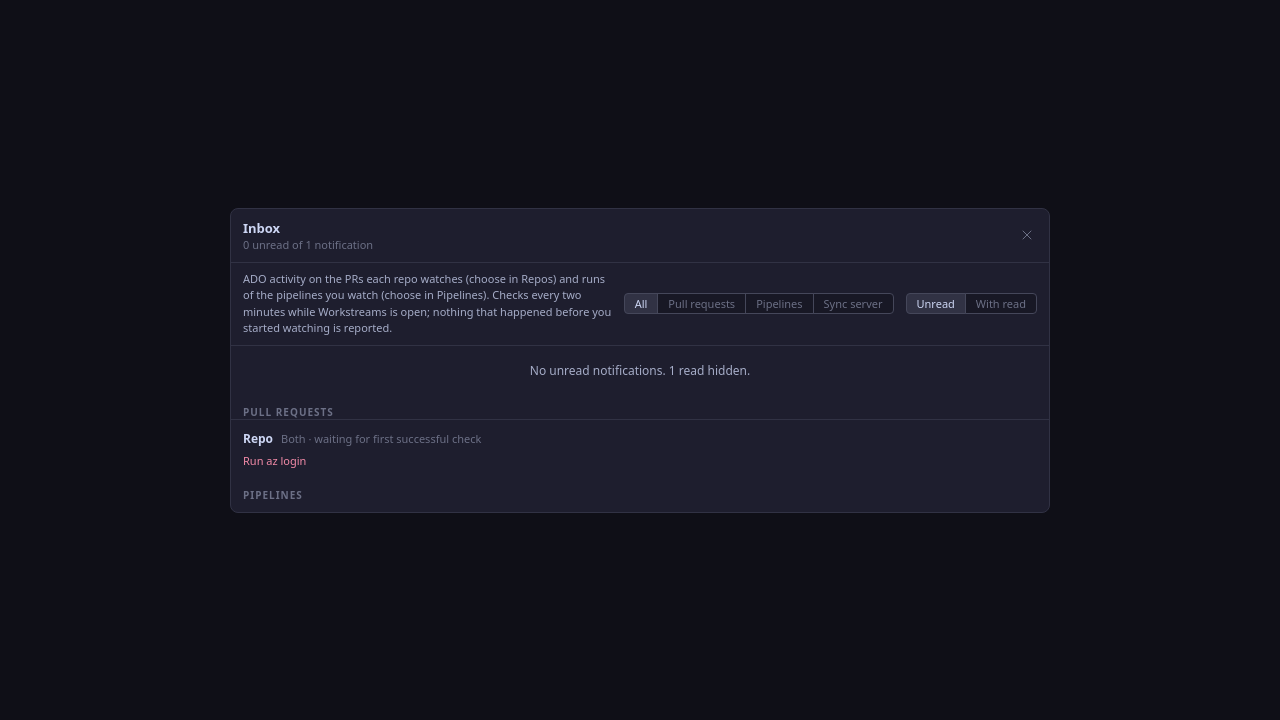
Scenario: Inbox, pull requests › can mark unread and reports failed writes and browser opens
Click the button "With read" at point(1001, 304), box [965,293,1037,314]
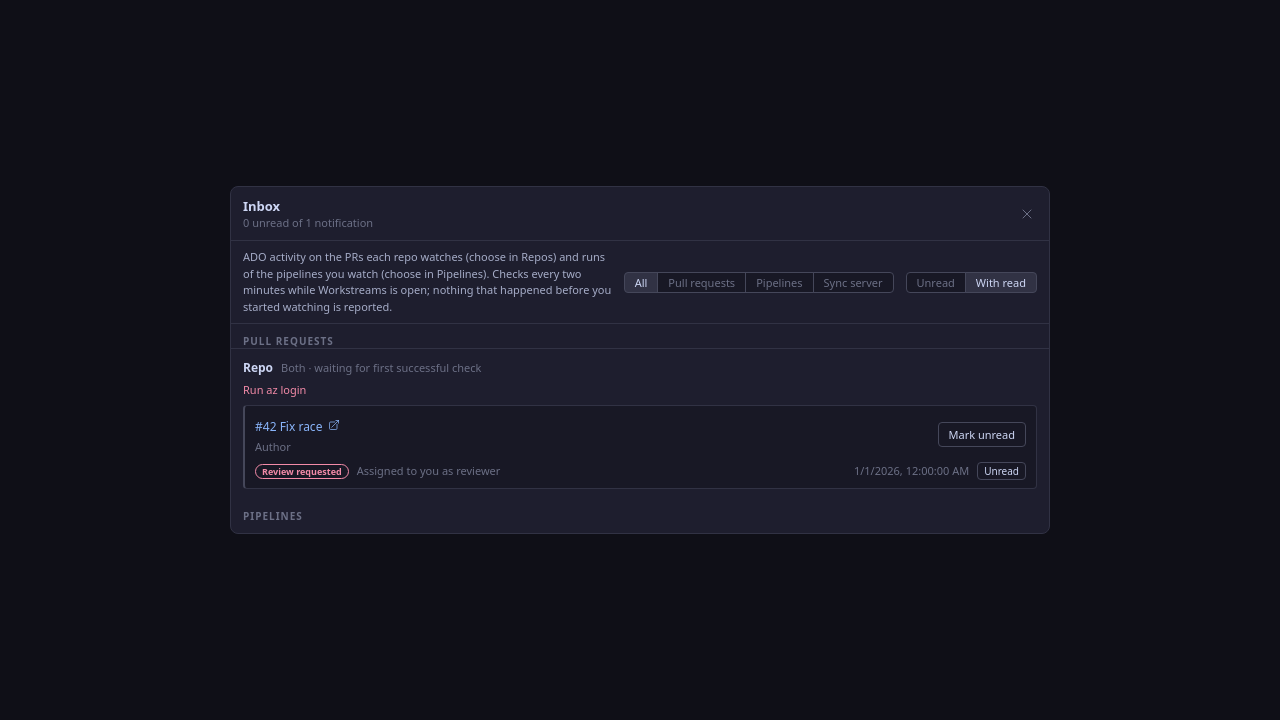
Click the button "Mark unread" at point(982, 434), box [938,422,1026,446]
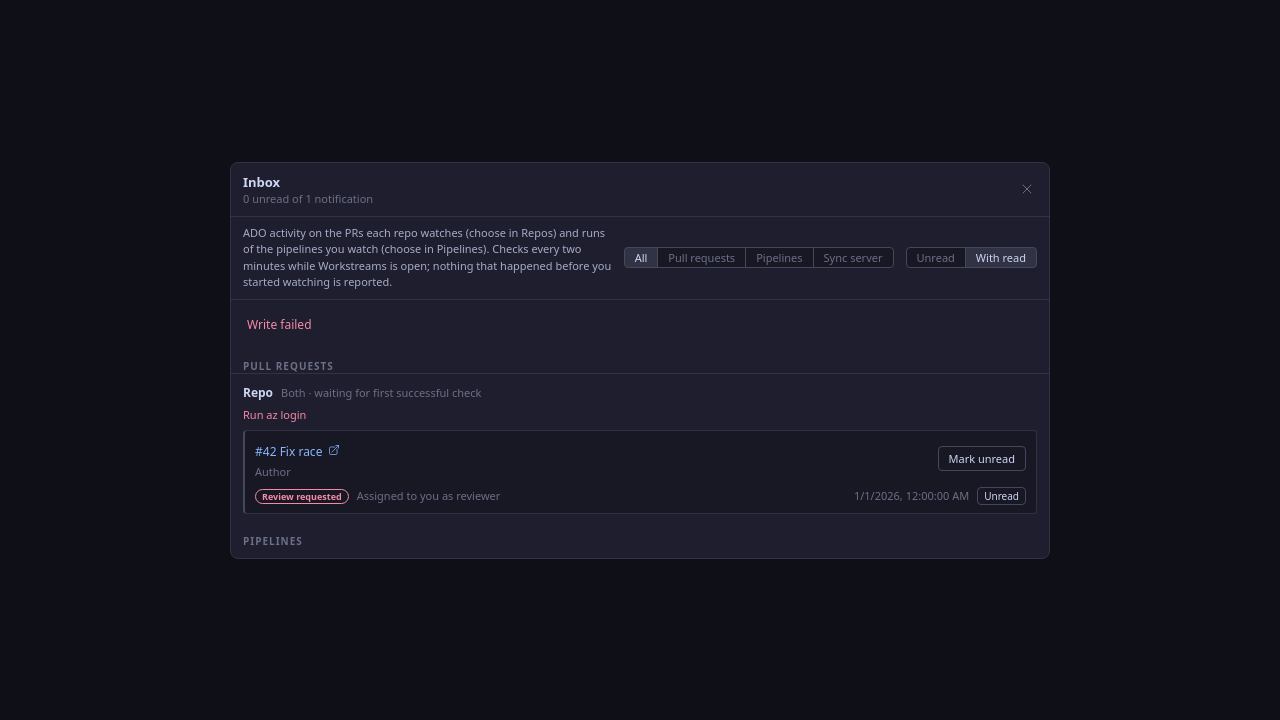
Check: the text "Write failed" is shown, box [247,316,312,332]
Click the button "#42 Fix race" at point(298, 451), box [255,442,340,460]
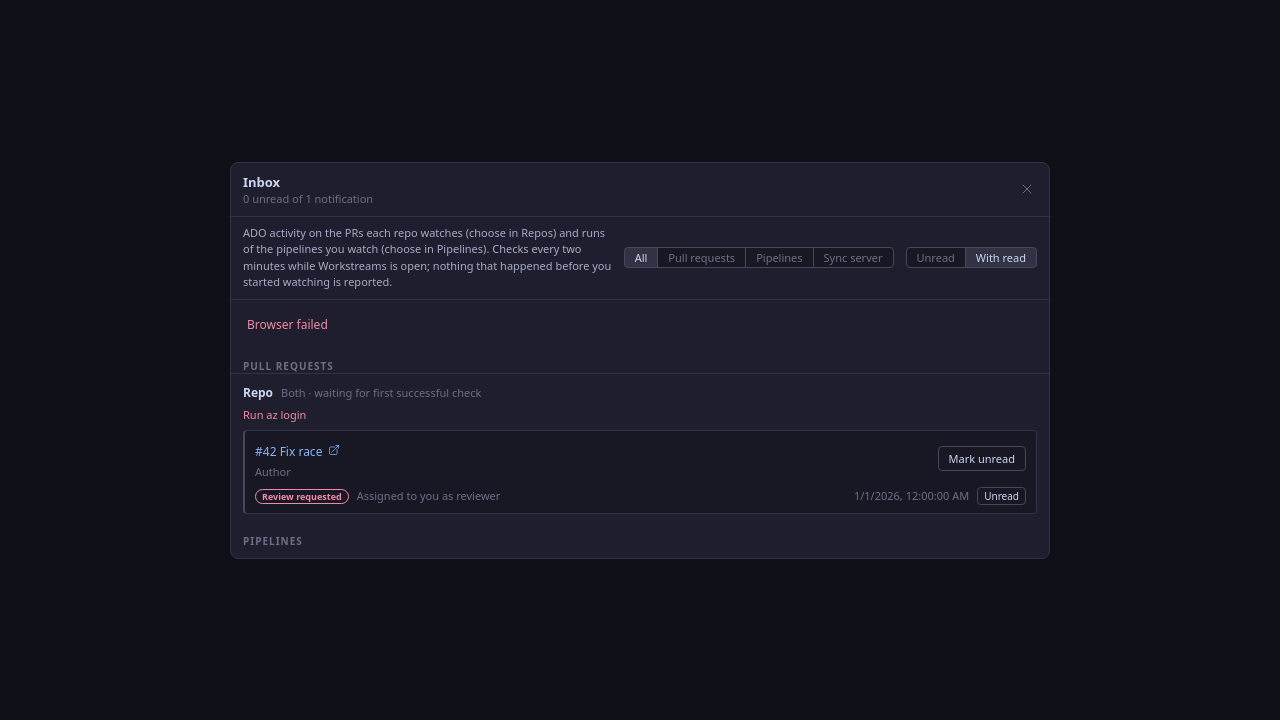
Check: the text "Browser failed" is shown, box [247,316,328,332]
